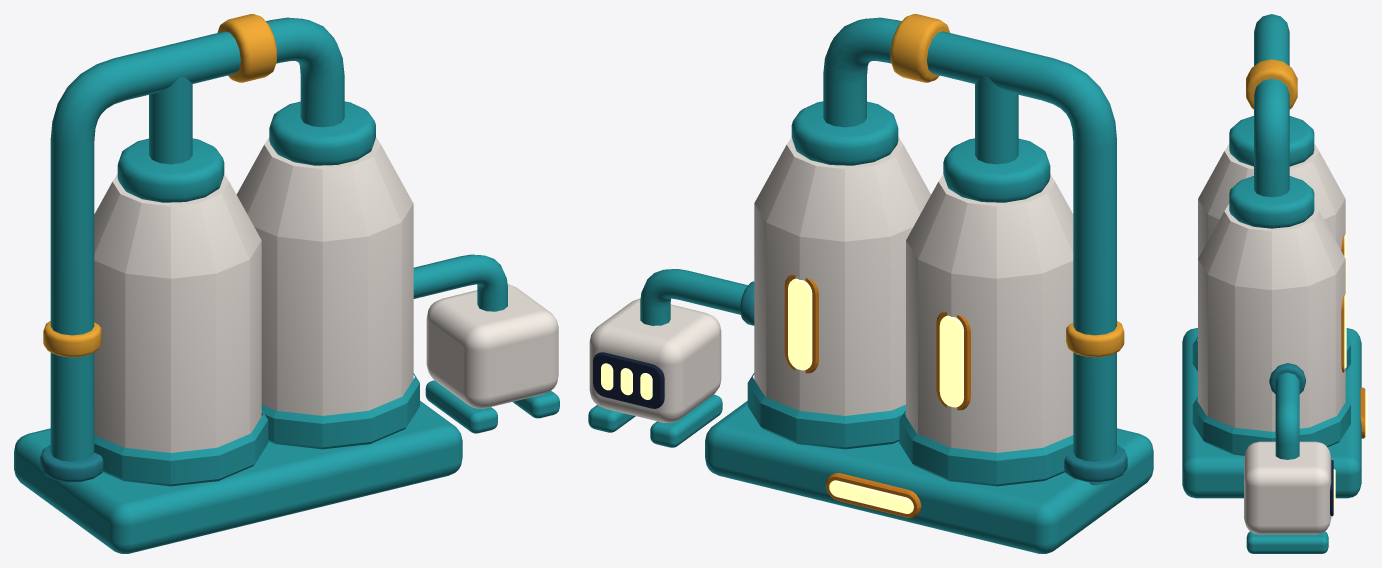
File: generador_oxigeno.glb
3 renders of one model, left to right at view 1: azimuth 30°, elevation 25°; view 2: azimuth 150°, elevation 25°; view 3: azimuth 270°, elevation 25°, orthographic. The views are drawn at different scales.
Parts seen in each view (by area): view 1: Malla_hueso, Malla_turquesa4, Malla_ambar_mate, Malla_turquesa_osc; view 2: Malla_hueso, Malla_turquesa4, Malla_ambar_mate, Pantalla, Luz, Luz2, Malla_turquesa_osc, Luz3, Marco3, Marco, Marco2; view 3: Malla_hueso, Malla_turquesa4, Malla_ambar_mate, Malla_turquesa_osc, Marco, Marco3.
Boxes of the visible parts, x1,y1,x2,y2 form: Malla_hueso: (94, 137, 558, 452); Malla_turquesa4: (14, 17, 559, 553); Malla_ambar_mate: (43, 14, 276, 357); Malla_turquesa_osc: (40, 445, 103, 482); Malla_hueso: (589, 137, 1073, 452); Malla_turquesa4: (588, 17, 1153, 553); Malla_ambar_mate: (890, 14, 1124, 357); Pantalla: (593, 352, 664, 408); Luz: (788, 278, 812, 370); Luz2: (939, 315, 963, 407); Malla_turquesa_osc: (740, 281, 1127, 482); Luz3: (829, 480, 913, 513); Marco3: (825, 473, 921, 518); Marco: (784, 274, 818, 373); Marco2: (936, 311, 970, 410); Malla_hueso: (1198, 143, 1345, 534); Malla_turquesa4: (1182, 14, 1361, 553); Malla_ambar_mate: (1246, 59, 1297, 109); Malla_turquesa_osc: (1269, 363, 1305, 393); Marco: (1341, 294, 1344, 372); Marco3: (1360, 387, 1365, 438).
Size of the model in its own units: 3.59 by 3.12 by 1.41.
